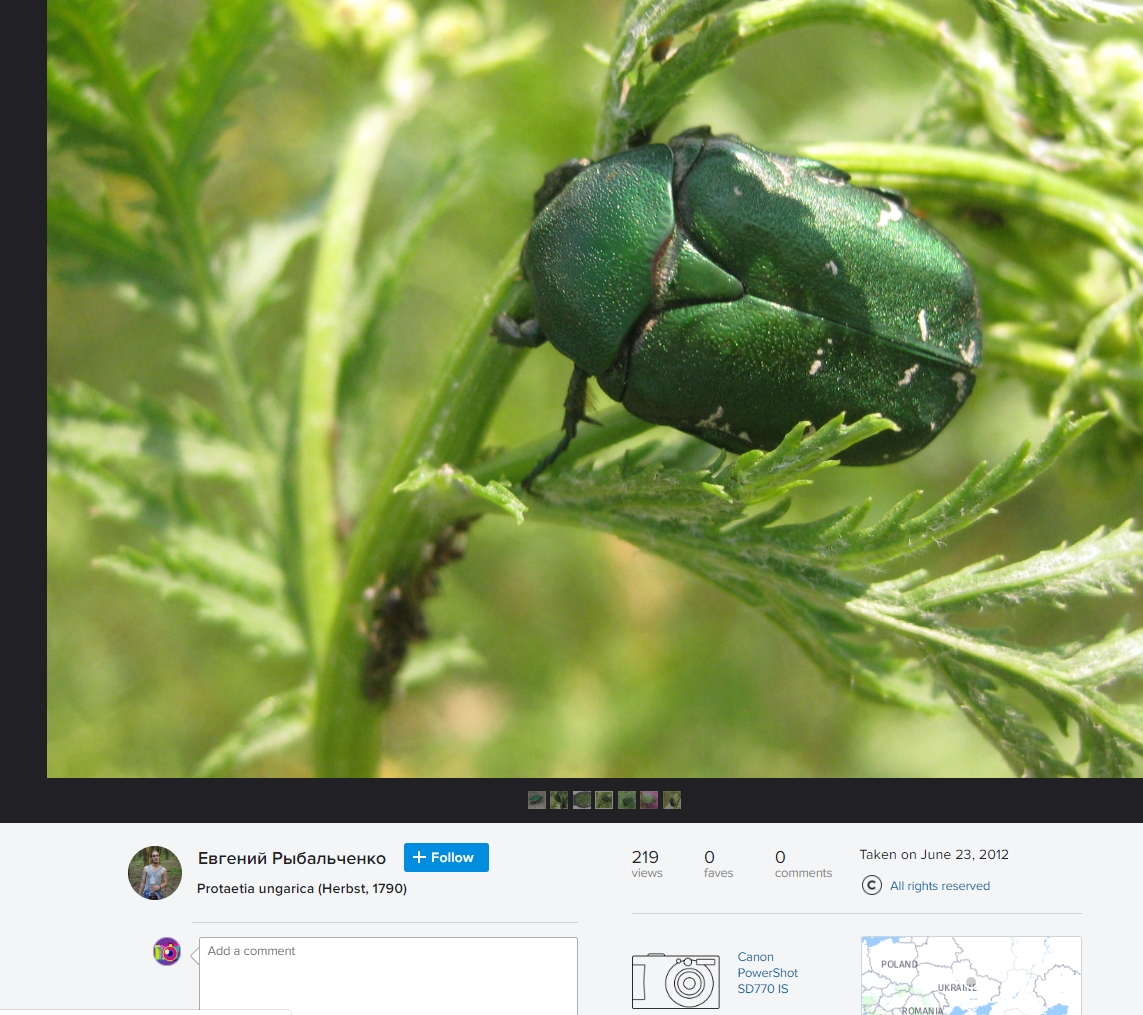Protaetia_ungarica: (489, 117, 986, 521)
